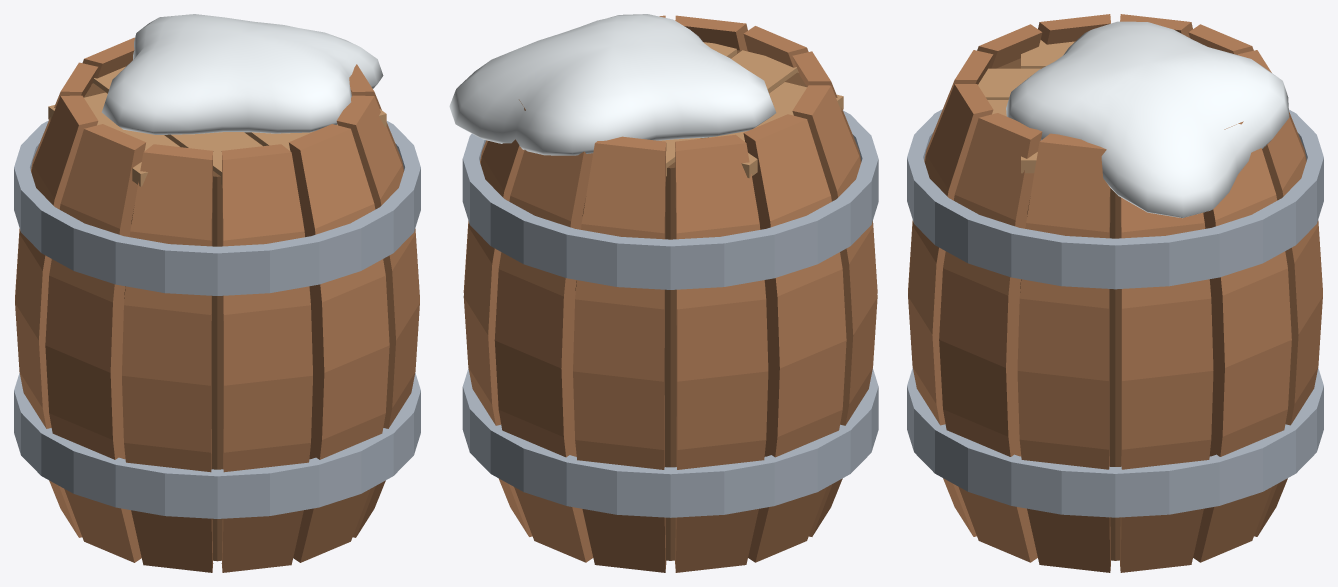
Rendered from Env_WoodBarrel.glb.
3 renders of one model, left to right at view 1: azimuth 30°, elevation 25°; view 2: azimuth 150°, elevation 25°; view 3: azimuth 270°, elevation 25°, orthographic. The views are drawn at different scales.
Visible parts, largest first — view 1: Env_WoodBarrel_Body, Env_WoodBarrel_Snow; view 2: Env_WoodBarrel_Body, Env_WoodBarrel_Snow; view 3: Env_WoodBarrel_Body, Env_WoodBarrel_Snow.
Boxes of the visible parts, x1=… form: Env_WoodBarrel_Body: x1=14, y1=37, x2=420, y2=572; Env_WoodBarrel_Snow: x1=101, y1=14, x2=383, y2=134; Env_WoodBarrel_Body: x1=462, y1=15, x2=878, y2=572; Env_WoodBarrel_Snow: x1=449, y1=14, x2=776, y2=155; Env_WoodBarrel_Body: x1=907, y1=14, x2=1323, y2=572; Env_WoodBarrel_Snow: x1=1006, y1=21, x2=1289, y2=218.
Size of the model in its own units: 0.5284 by 0.634 by 0.5181.
